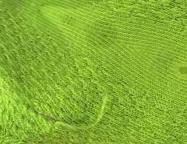snag: (51, 92, 113, 134)
